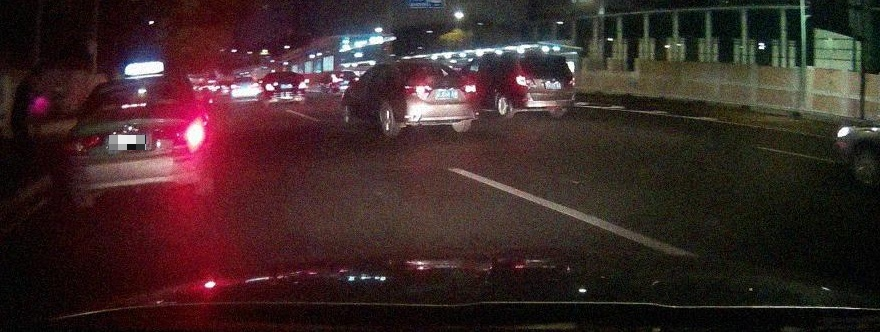L_light: (62, 132, 102, 155), (401, 83, 431, 97), (513, 74, 532, 87)
R_light: (174, 124, 210, 148), (459, 82, 477, 95), (563, 75, 575, 88)
T_light: (119, 100, 149, 109), (427, 65, 442, 70), (538, 56, 551, 61)
night-no: (395, 61, 477, 137), (511, 53, 576, 117)
night-right: (62, 76, 212, 213)
plate_1: (109, 135, 146, 150)
